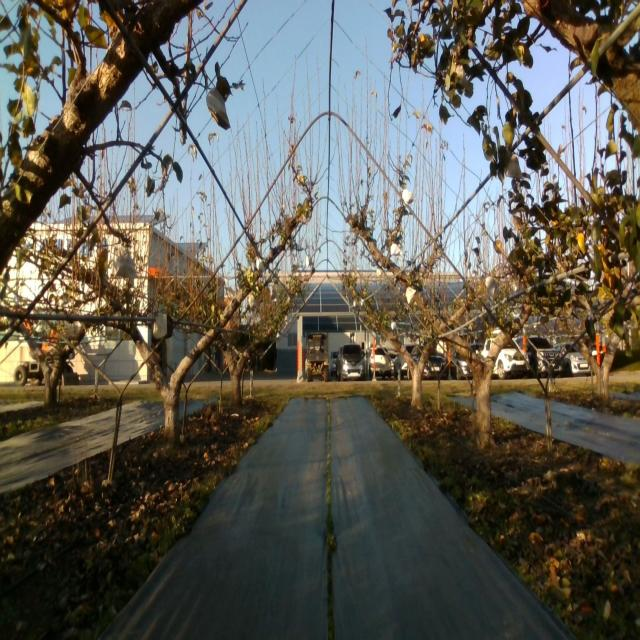pearbags: (205, 87, 231, 129), (114, 239, 138, 278), (504, 153, 522, 178), (484, 276, 497, 298), (402, 188, 415, 207)
